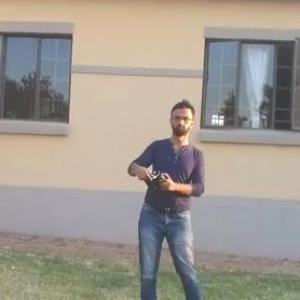follow: (122, 93, 213, 299)
